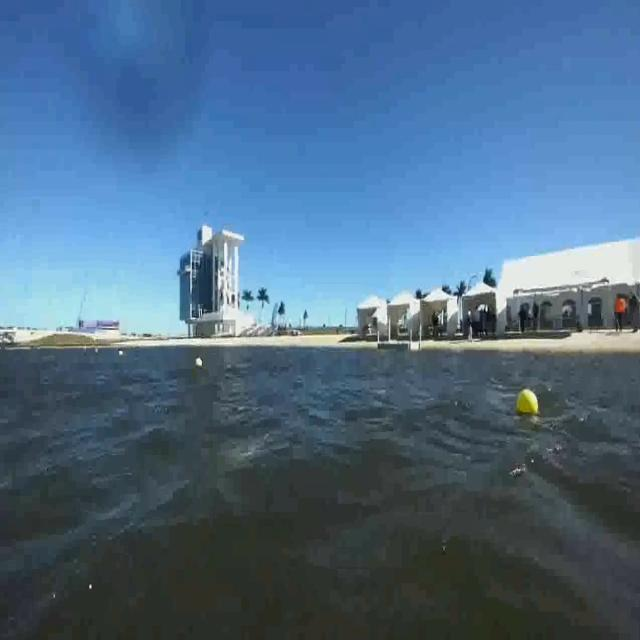yellow-buoy: (515, 391, 538, 418)
